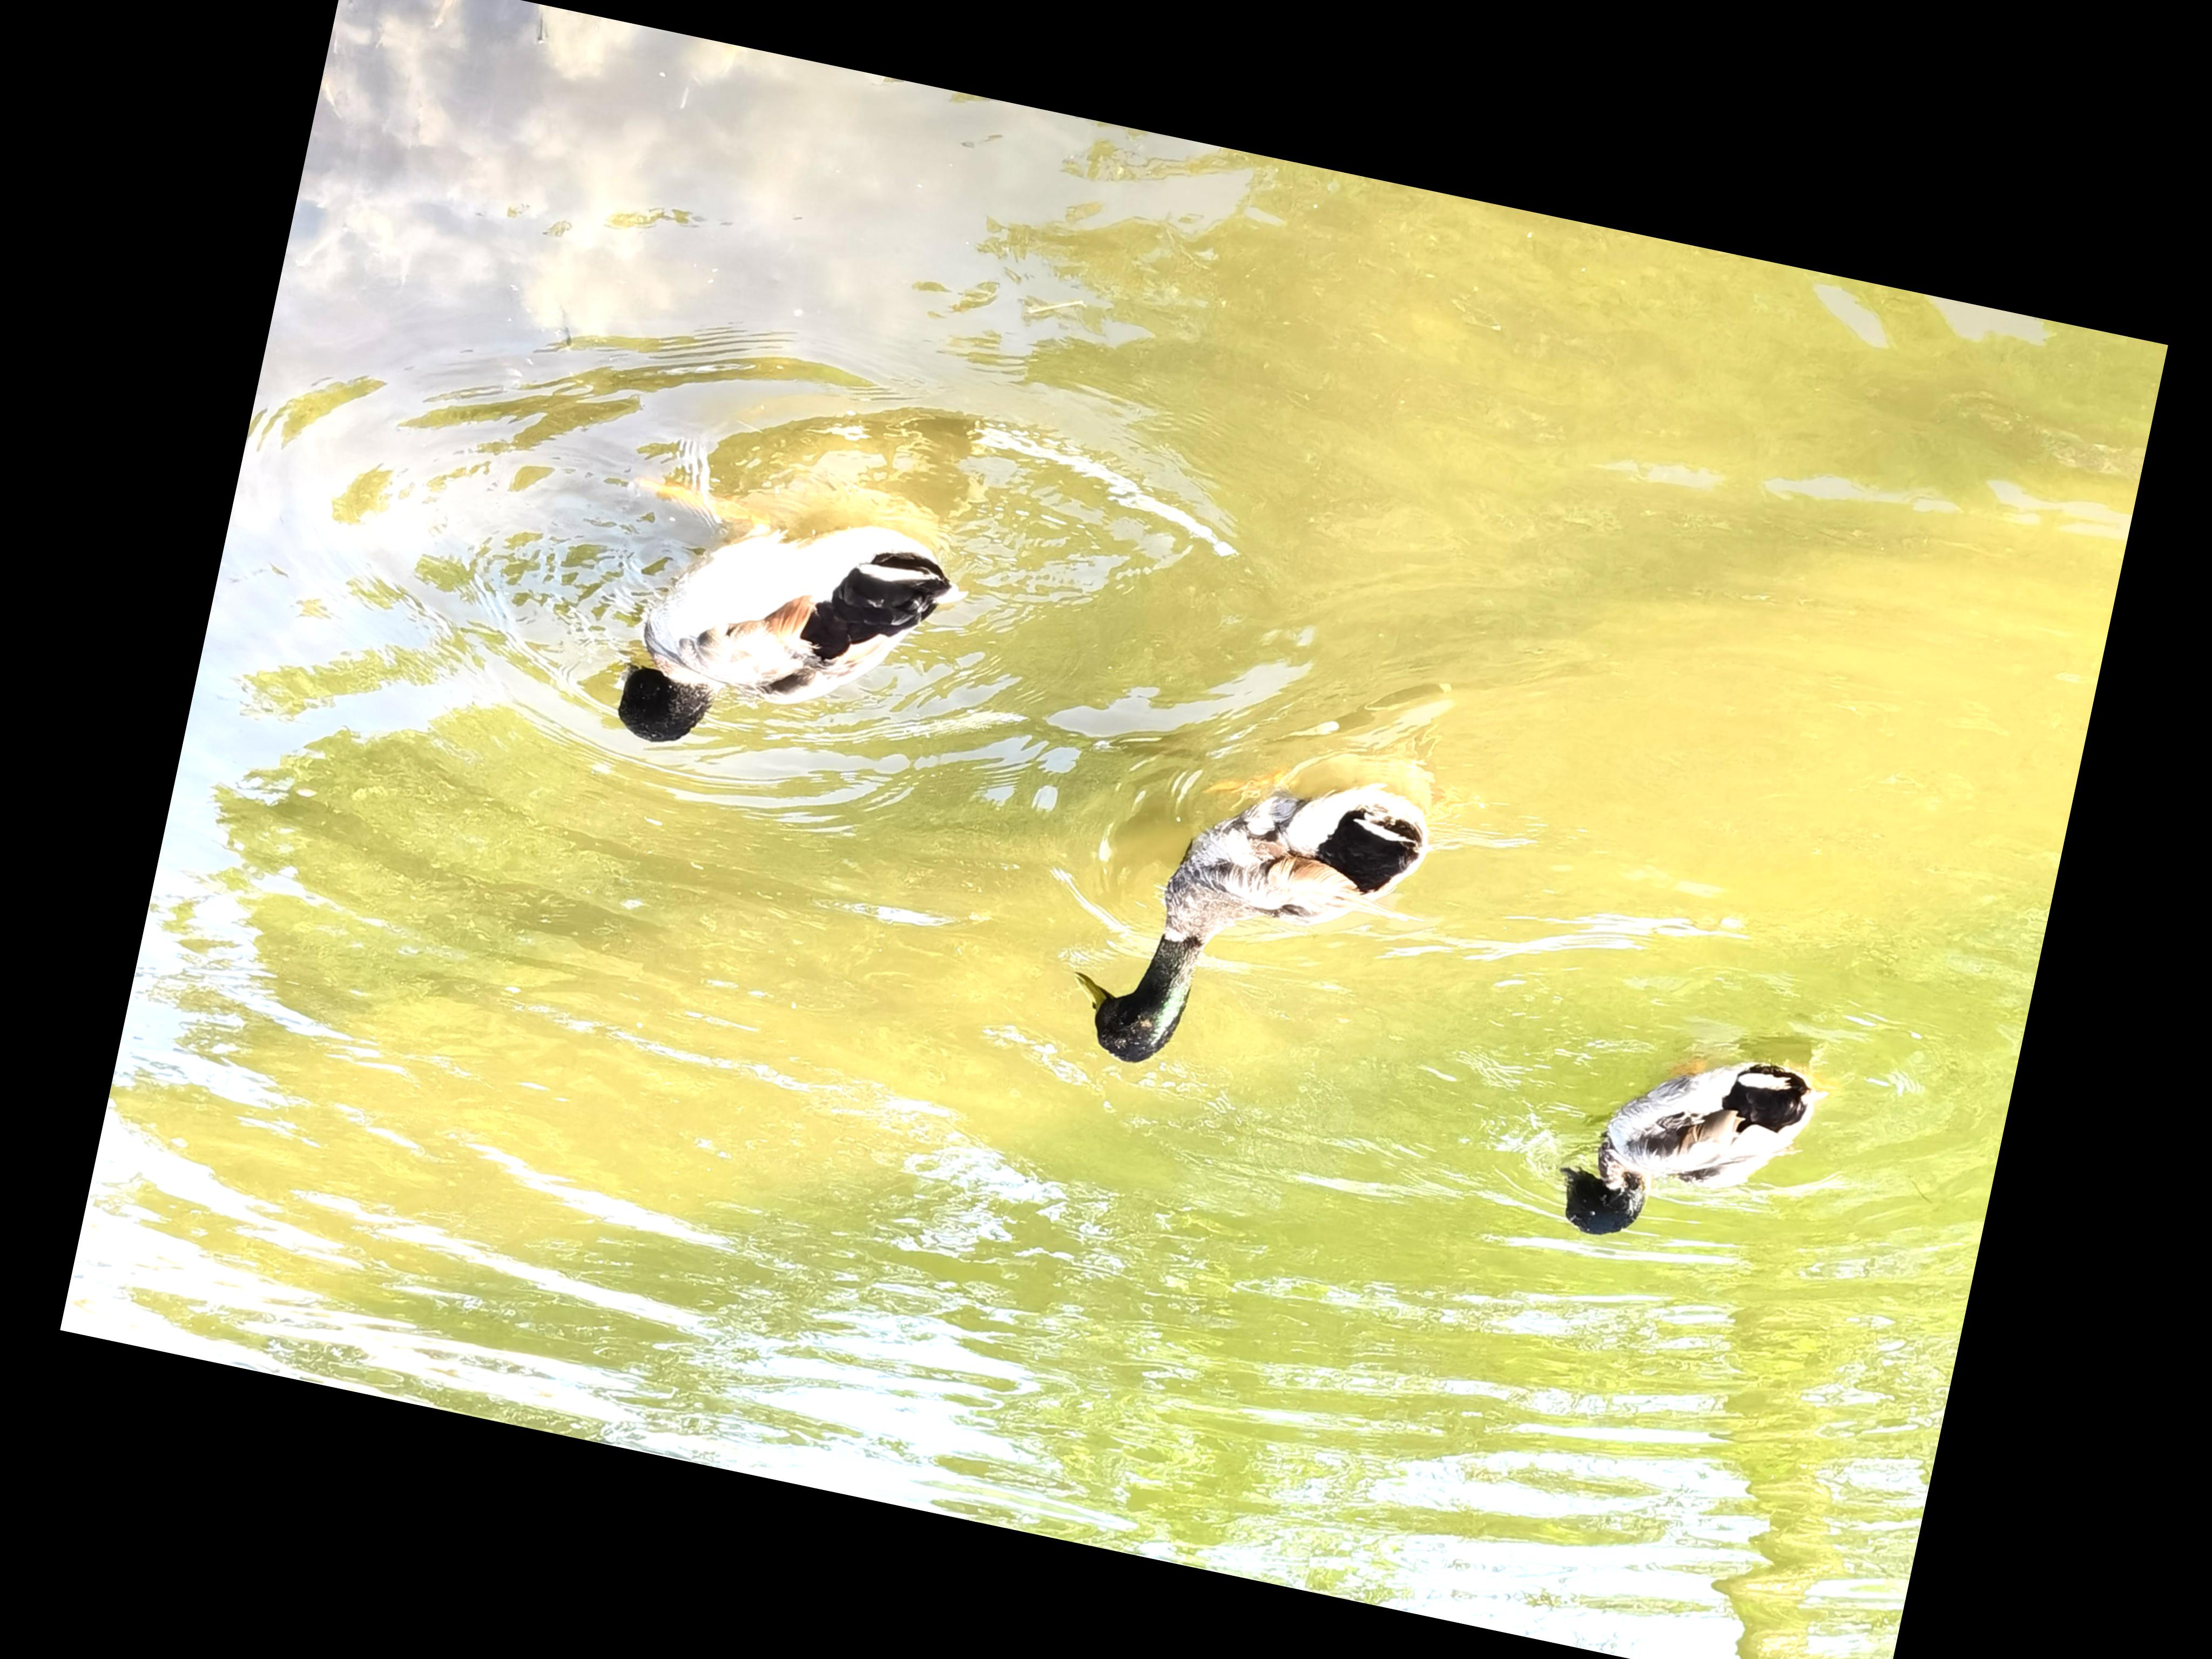duck: (1033, 671, 1500, 1133), (538, 403, 1029, 829), (1538, 986, 1855, 1288)
